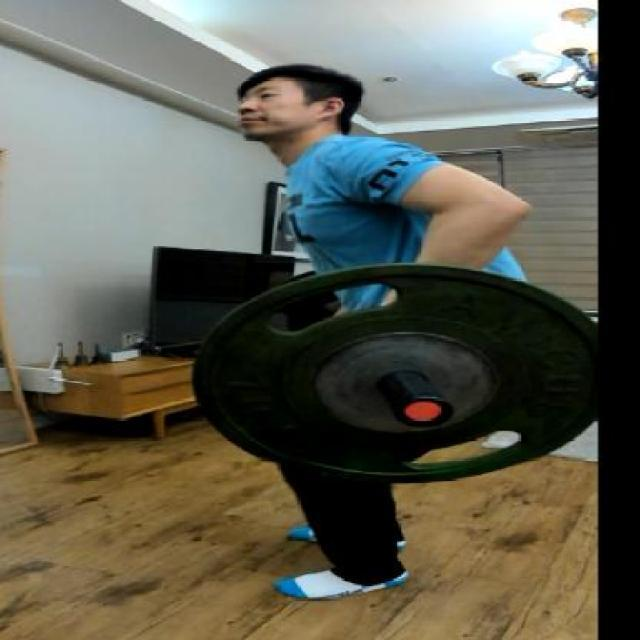Barbell: (383, 392, 465, 432)
